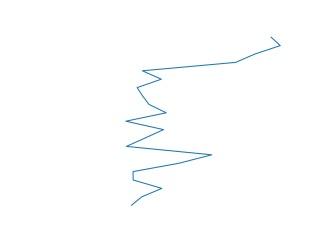crevasseRiverChannelBar: (122, 34, 283, 210)
